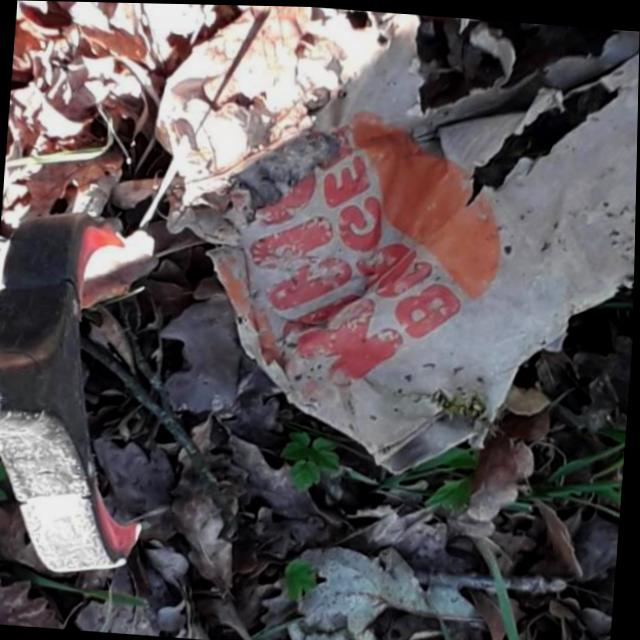Paper: (189, 3, 640, 490)
